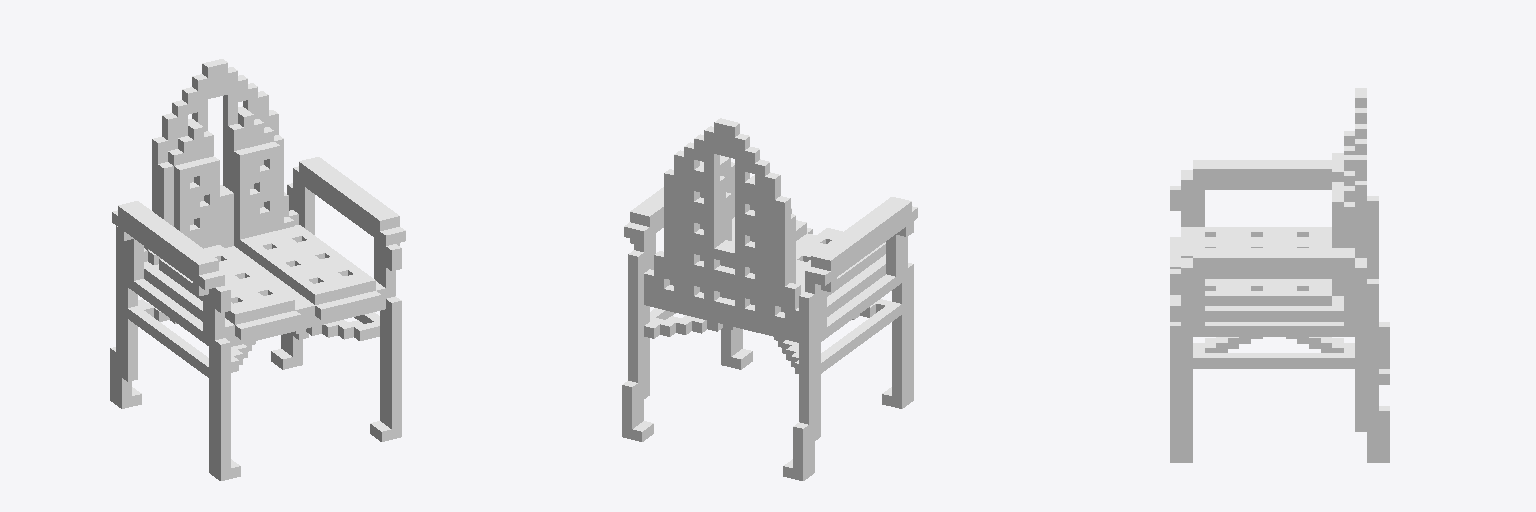
Rendered from CasinoChair.obj.
3 renders of one model, left to right at view 1: azimuth 30°, elevation 25°; view 2: azimuth 150°, elevation 25°; view 3: azimuth 270°, elevation 25°, orthographic.
Visible parts, largest first — view 1: object 1; view 2: object 1; view 3: object 1.
Part boxes in pixels (x1,y1,x2,y2): object 1: (110,59,405,480); object 1: (622,118,917,480); object 1: (1170,88,1389,462).
Bounding box in the file's own units: 2 × 3.1 × 1.9.